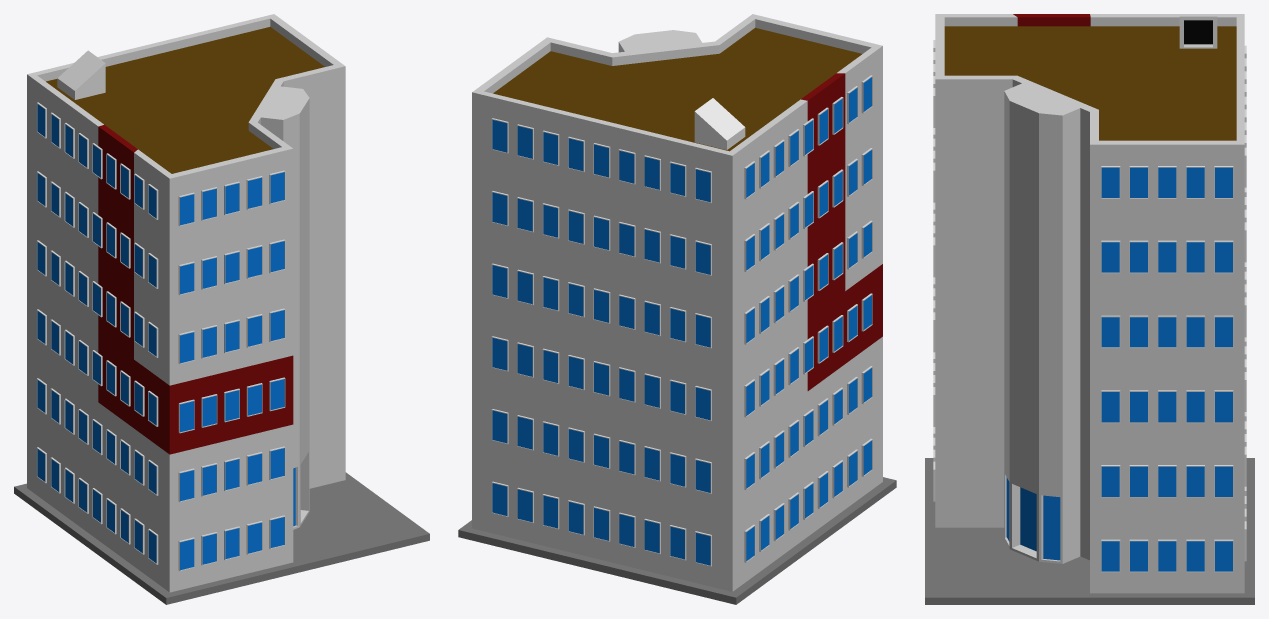
The model's file is Apartments.fbx.
3 renders of one model, left to right at view 1: azimuth 30°, elevation 25°; view 2: azimuth 150°, elevation 25°; view 3: azimuth 270°, elevation 25°, orthographic. The views are drawn at different scales.
Parts seen in each view (by area): view 1: Apartments; view 2: Apartments; view 3: Apartments.
Boxes of the visible parts, bbox=[...] form: Apartments: bbox=[14, 14, 429, 604]; Apartments: bbox=[458, 14, 896, 604]; Apartments: bbox=[925, 14, 1254, 604].
Size of the model in its own units: 800 by 1282 by 800.
